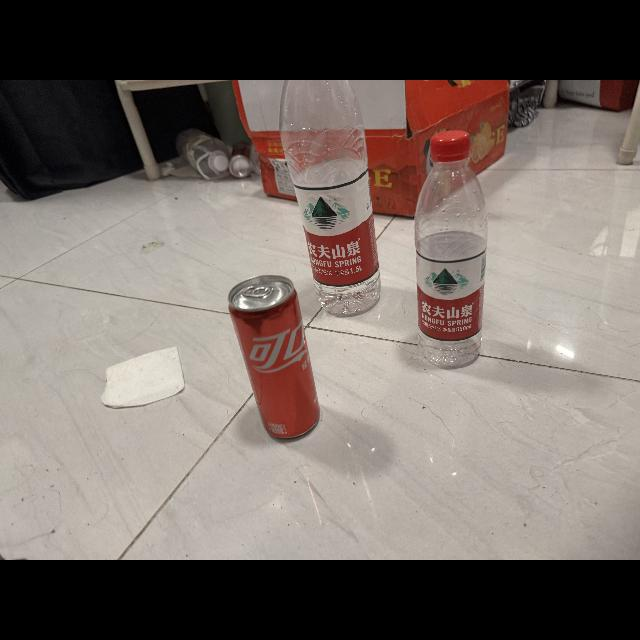Cola: (226, 270, 326, 444)
